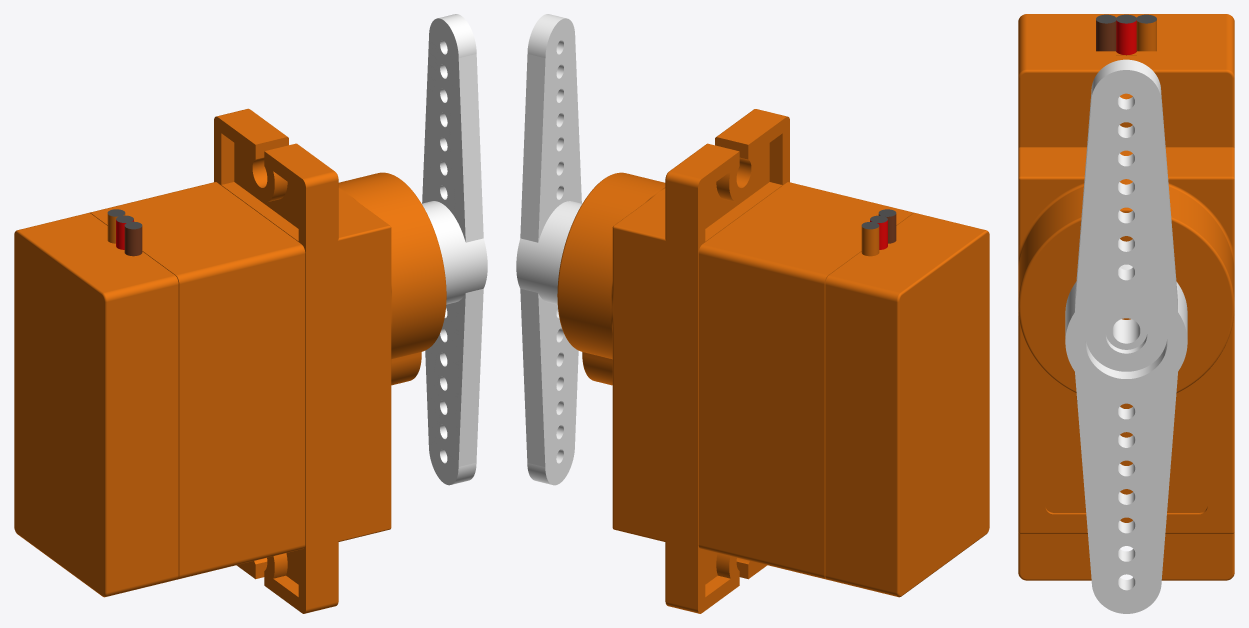
Rendered from servo_t90.FBX.
3 renders of one model, left to right at view 1: azimuth 30°, elevation 25°; view 2: azimuth 150°, elevation 25°; view 3: azimuth 270°, elevation 25°, orthographic. The views are drawn at different scales.
Parts seen in each view (by area): view 1: Boss-Extrude11, Cut-Extrude4; view 2: Boss-Extrude11, Cut-Extrude4; view 3: Boss-Extrude11, Cut-Extrude4.
Boxes of the visible parts, box(x1,y1,x2,y2) form: Boss-Extrude11: box(14, 108, 446, 613); Cut-Extrude4: box(422, 14, 487, 485); Boss-Extrude11: box(557, 109, 989, 613); Cut-Extrude4: box(516, 14, 581, 485); Boss-Extrude11: box(1018, 14, 1234, 580); Cut-Extrude4: box(1065, 59, 1187, 613).
Size of the model in its own units: 34.18 by 41.99 by 13.54.
